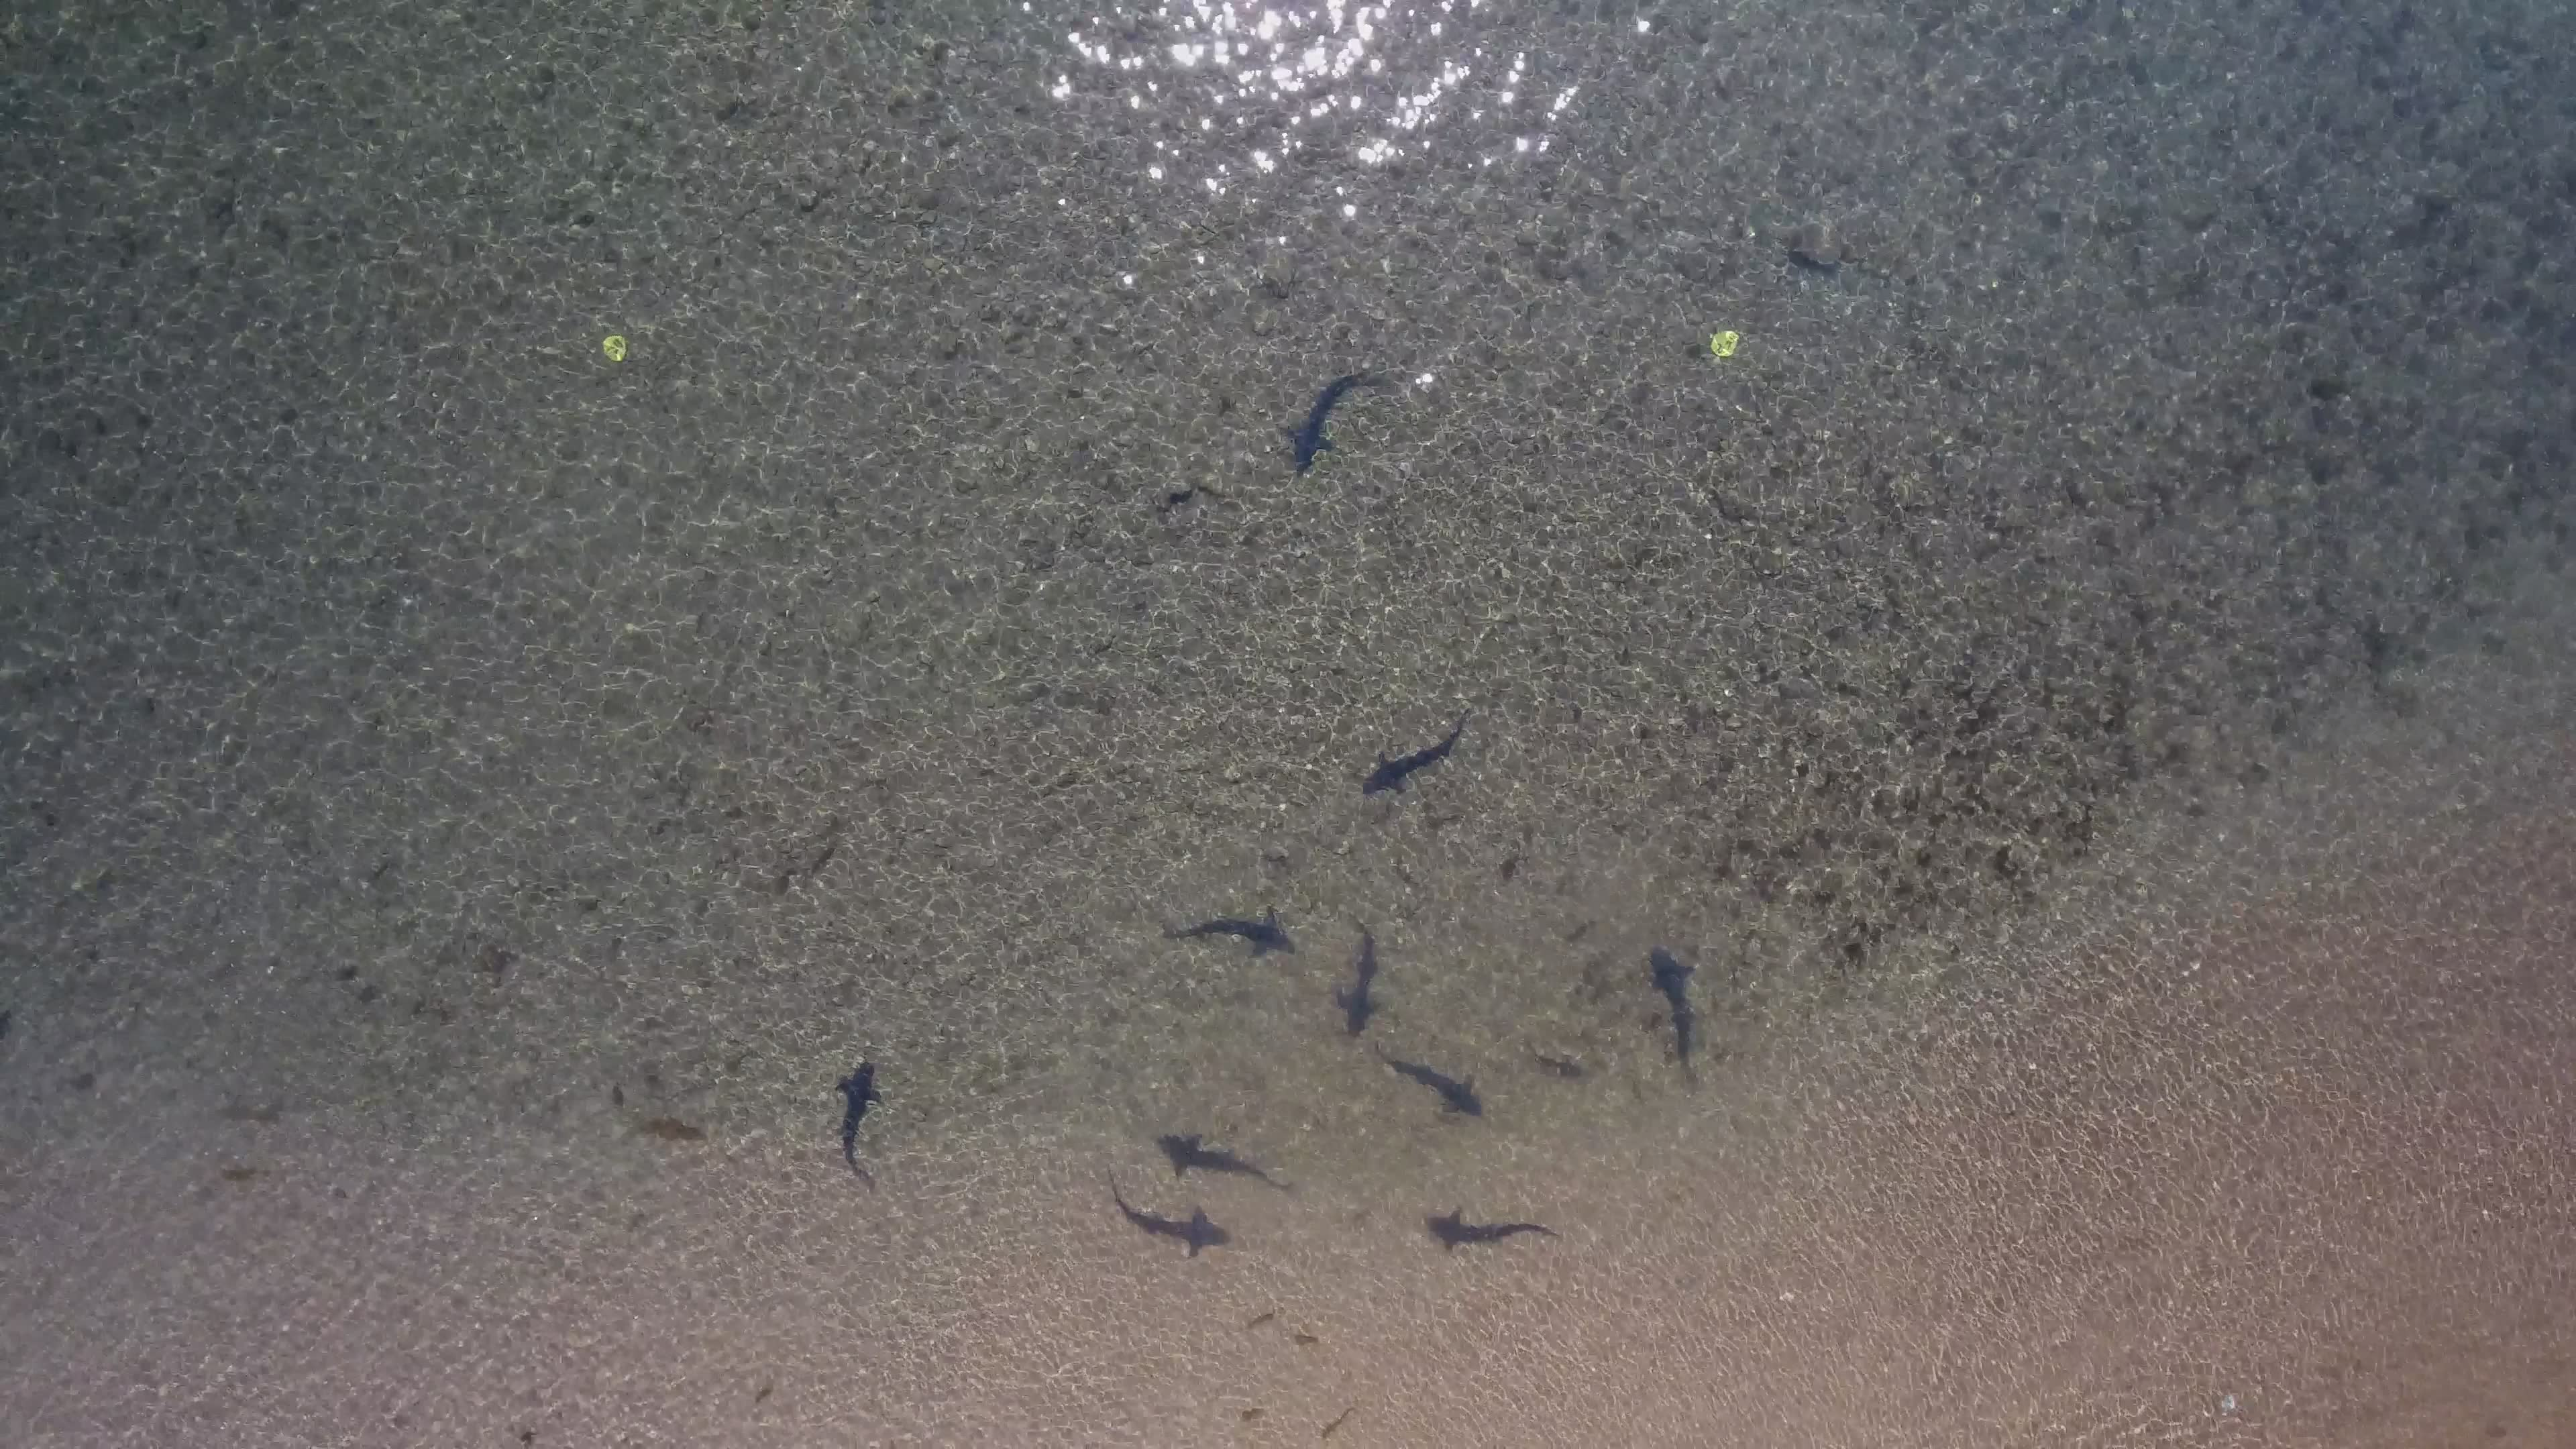shark: (1368, 810, 1444, 911)
